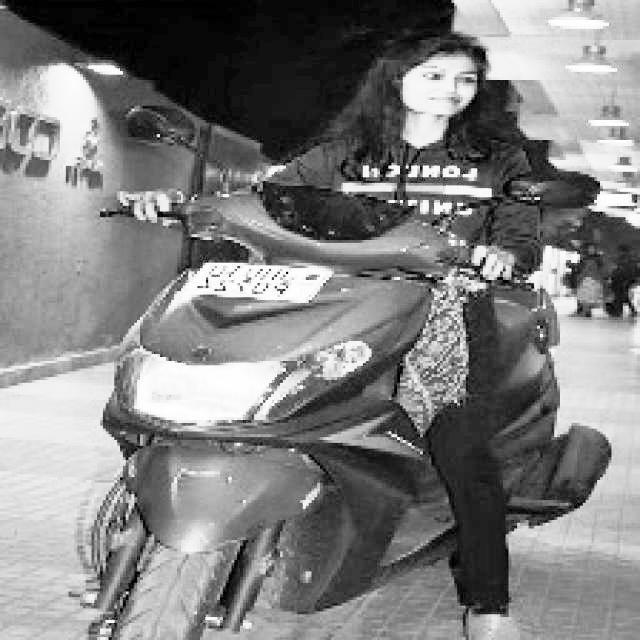Bike: (107, 194, 431, 640)
